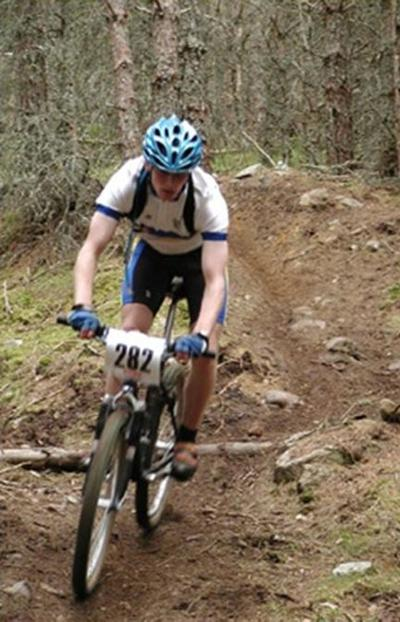person: (73, 114, 231, 481)
